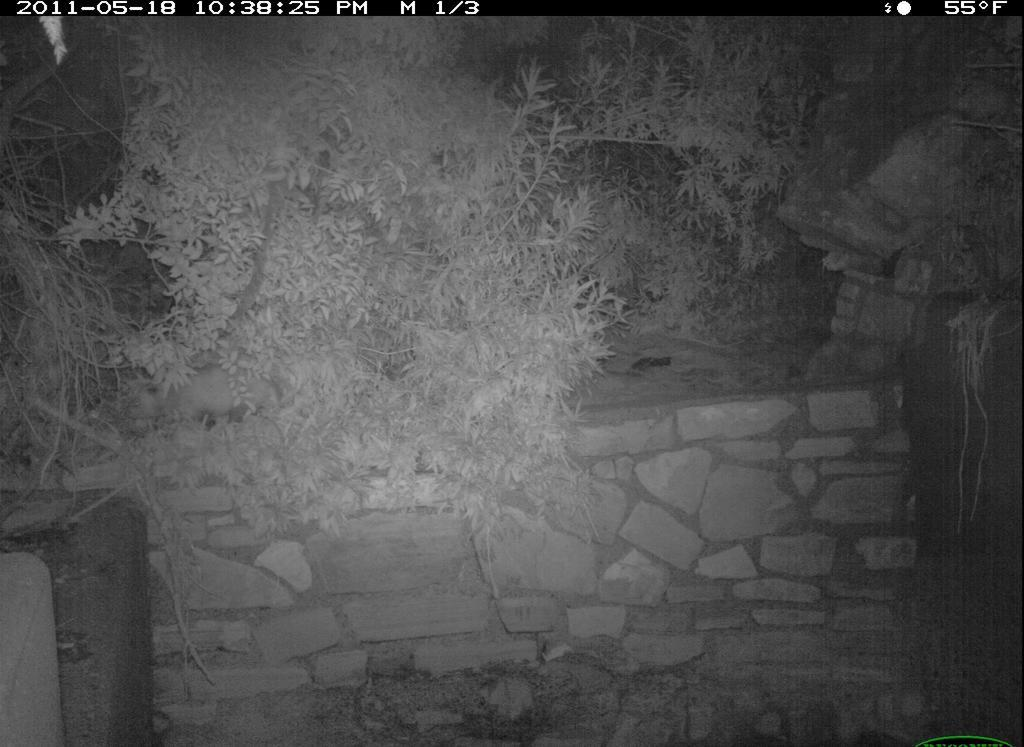opossum: (146, 378, 317, 452)
